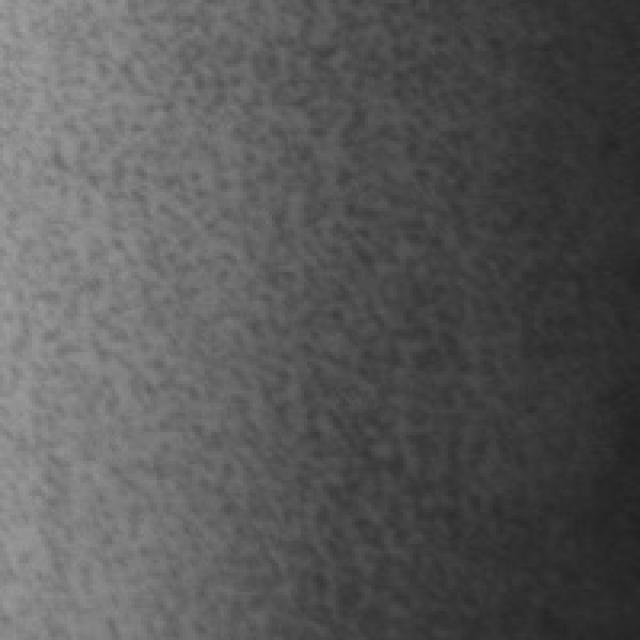pitted_surface: (80, 3, 598, 637)
